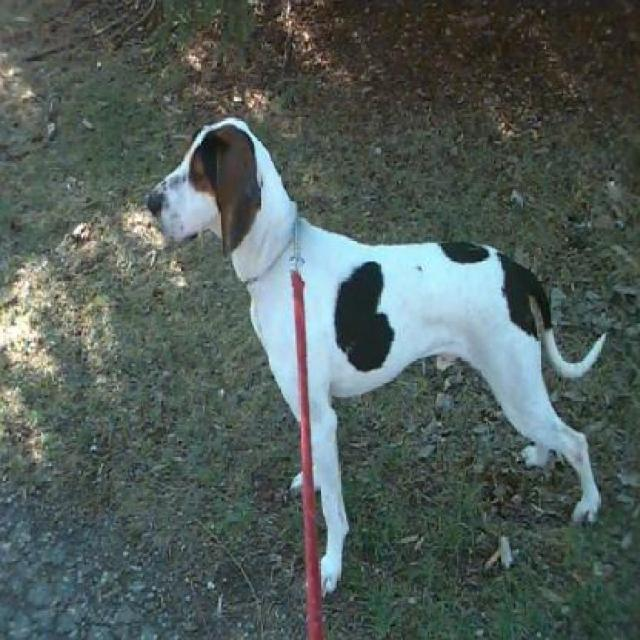Dog: (145, 108, 609, 608)
